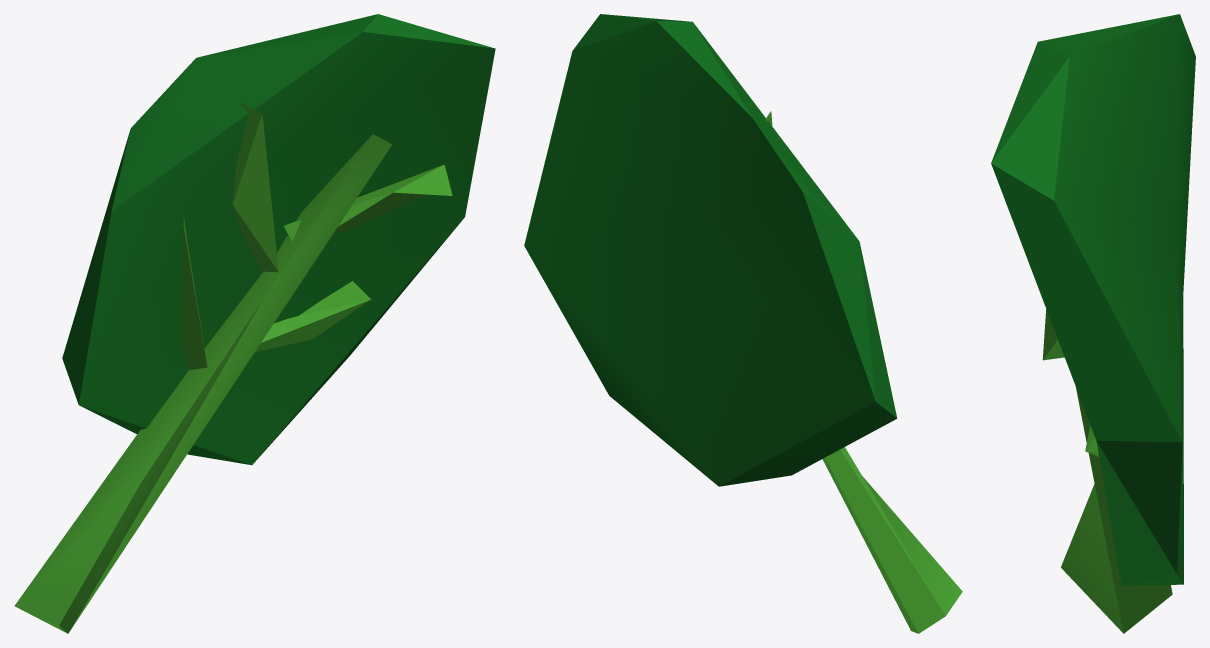
Rendered from spinach.fbx.
3 views of the same model, side by side, from view 1: azimuth 30°, elevation 25°; view 2: azimuth 150°, elevation 25°; view 3: azimuth 270°, elevation 25° (orthographic). The views are drawn at different scales.
Parts seen in each view (by area): view 1: Cube.001, NurbsPath.041; view 2: Cube.001, NurbsPath.041; view 3: Cube.001, NurbsPath.041.
Part boxes in pixels (x1=…): Cube.001: x1=62, y1=14, x2=495, y2=465; NurbsPath.041: x1=14, y1=103, x2=452, y2=633; Cube.001: x1=524, y1=14, x2=897, y2=486; NurbsPath.041: x1=765, y1=111, x2=962, y2=633; Cube.001: x1=991, y1=14, x2=1195, y2=585; NurbsPath.041: x1=1042, y1=309, x2=1172, y2=633.
Size of the model in its own units: 161 by 198 by 47.75.
